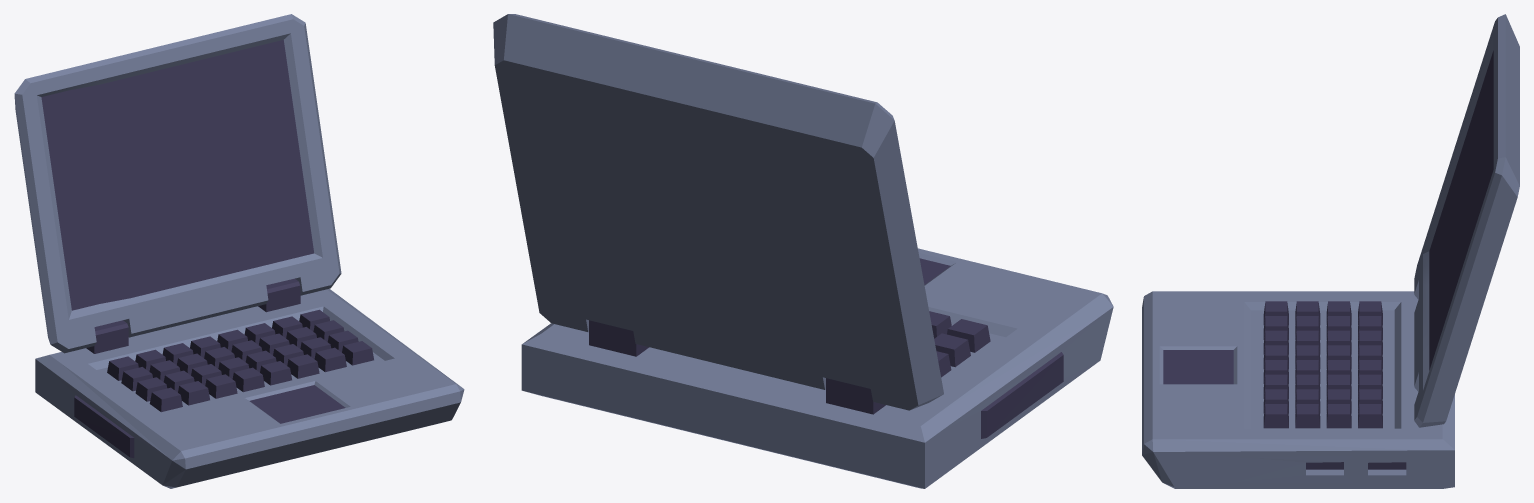
The model's file is laptop_01.fbx.
3 views of the same model, side by side, from view 1: azimuth 30°, elevation 25°; view 2: azimuth 150°, elevation 25°; view 3: azimuth 270°, elevation 25° (orthographic). The views are drawn at different scales.
Parts seen in each view (by area): view 1: SM_laptop_screen_01, SM_laptop_lower_01, SM_laptop_pad_01; view 2: SM_laptop_screen_01, SM_laptop_lower_01, SM_laptop_pad_01; view 3: SM_laptop_lower_01, SM_laptop_screen_01, SM_laptop_pad_01.
Boxes of the visible parts, x1,y1,x2,y2 form: SM_laptop_screen_01: [14, 14, 341, 353]; SM_laptop_lower_01: [35, 278, 464, 488]; SM_laptop_pad_01: [107, 309, 373, 412]; SM_laptop_screen_01: [493, 14, 943, 410]; SM_laptop_lower_01: [521, 248, 1113, 488]; SM_laptop_pad_01: [929, 311, 990, 377]; SM_laptop_lower_01: [1142, 291, 1454, 488]; SM_laptop_screen_01: [1414, 14, 1519, 427]; SM_laptop_pad_01: [1263, 301, 1382, 428].
Size of the model in its own units: 62.26 by 60.24 by 62.64.
